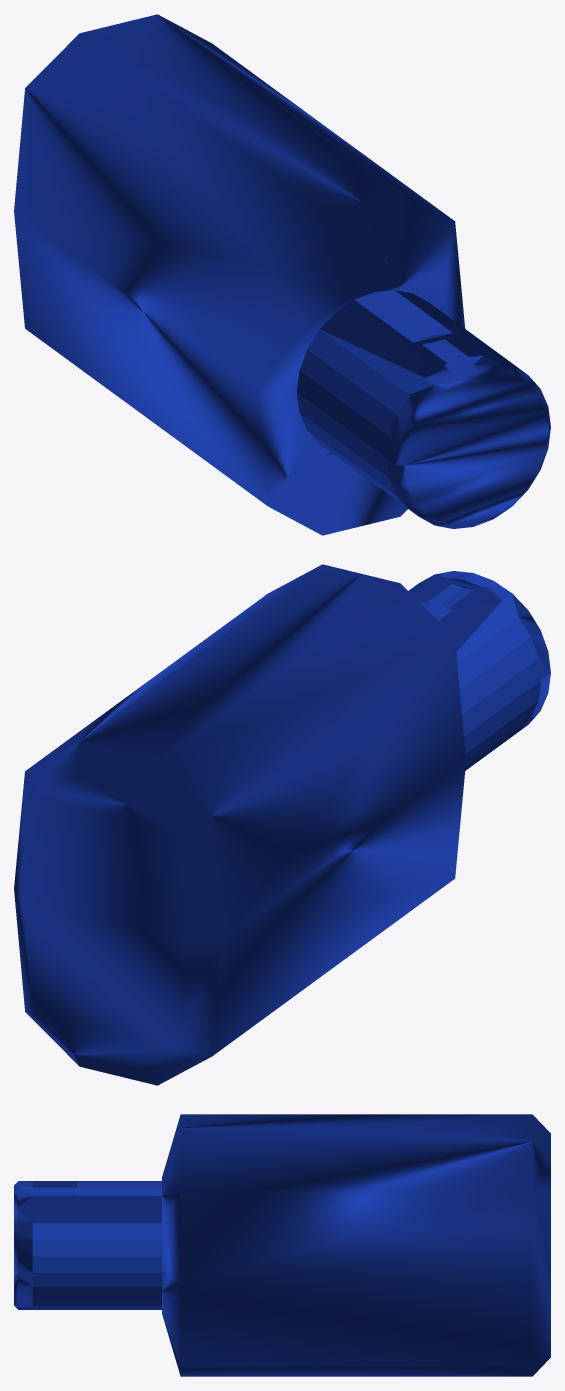
Rendered from model_align.obj.
The picture shows the model from 3 angles, top to bottom: view 1: azimuth 30°, elevation 25°; view 2: azimuth 150°, elevation 25°; view 3: azimuth 270°, elevation 25°; orthographic projection. The views are drawn at different scales.
Bounding box in the file's own units: 0.0509 × 0.0755 × 0.1563.
